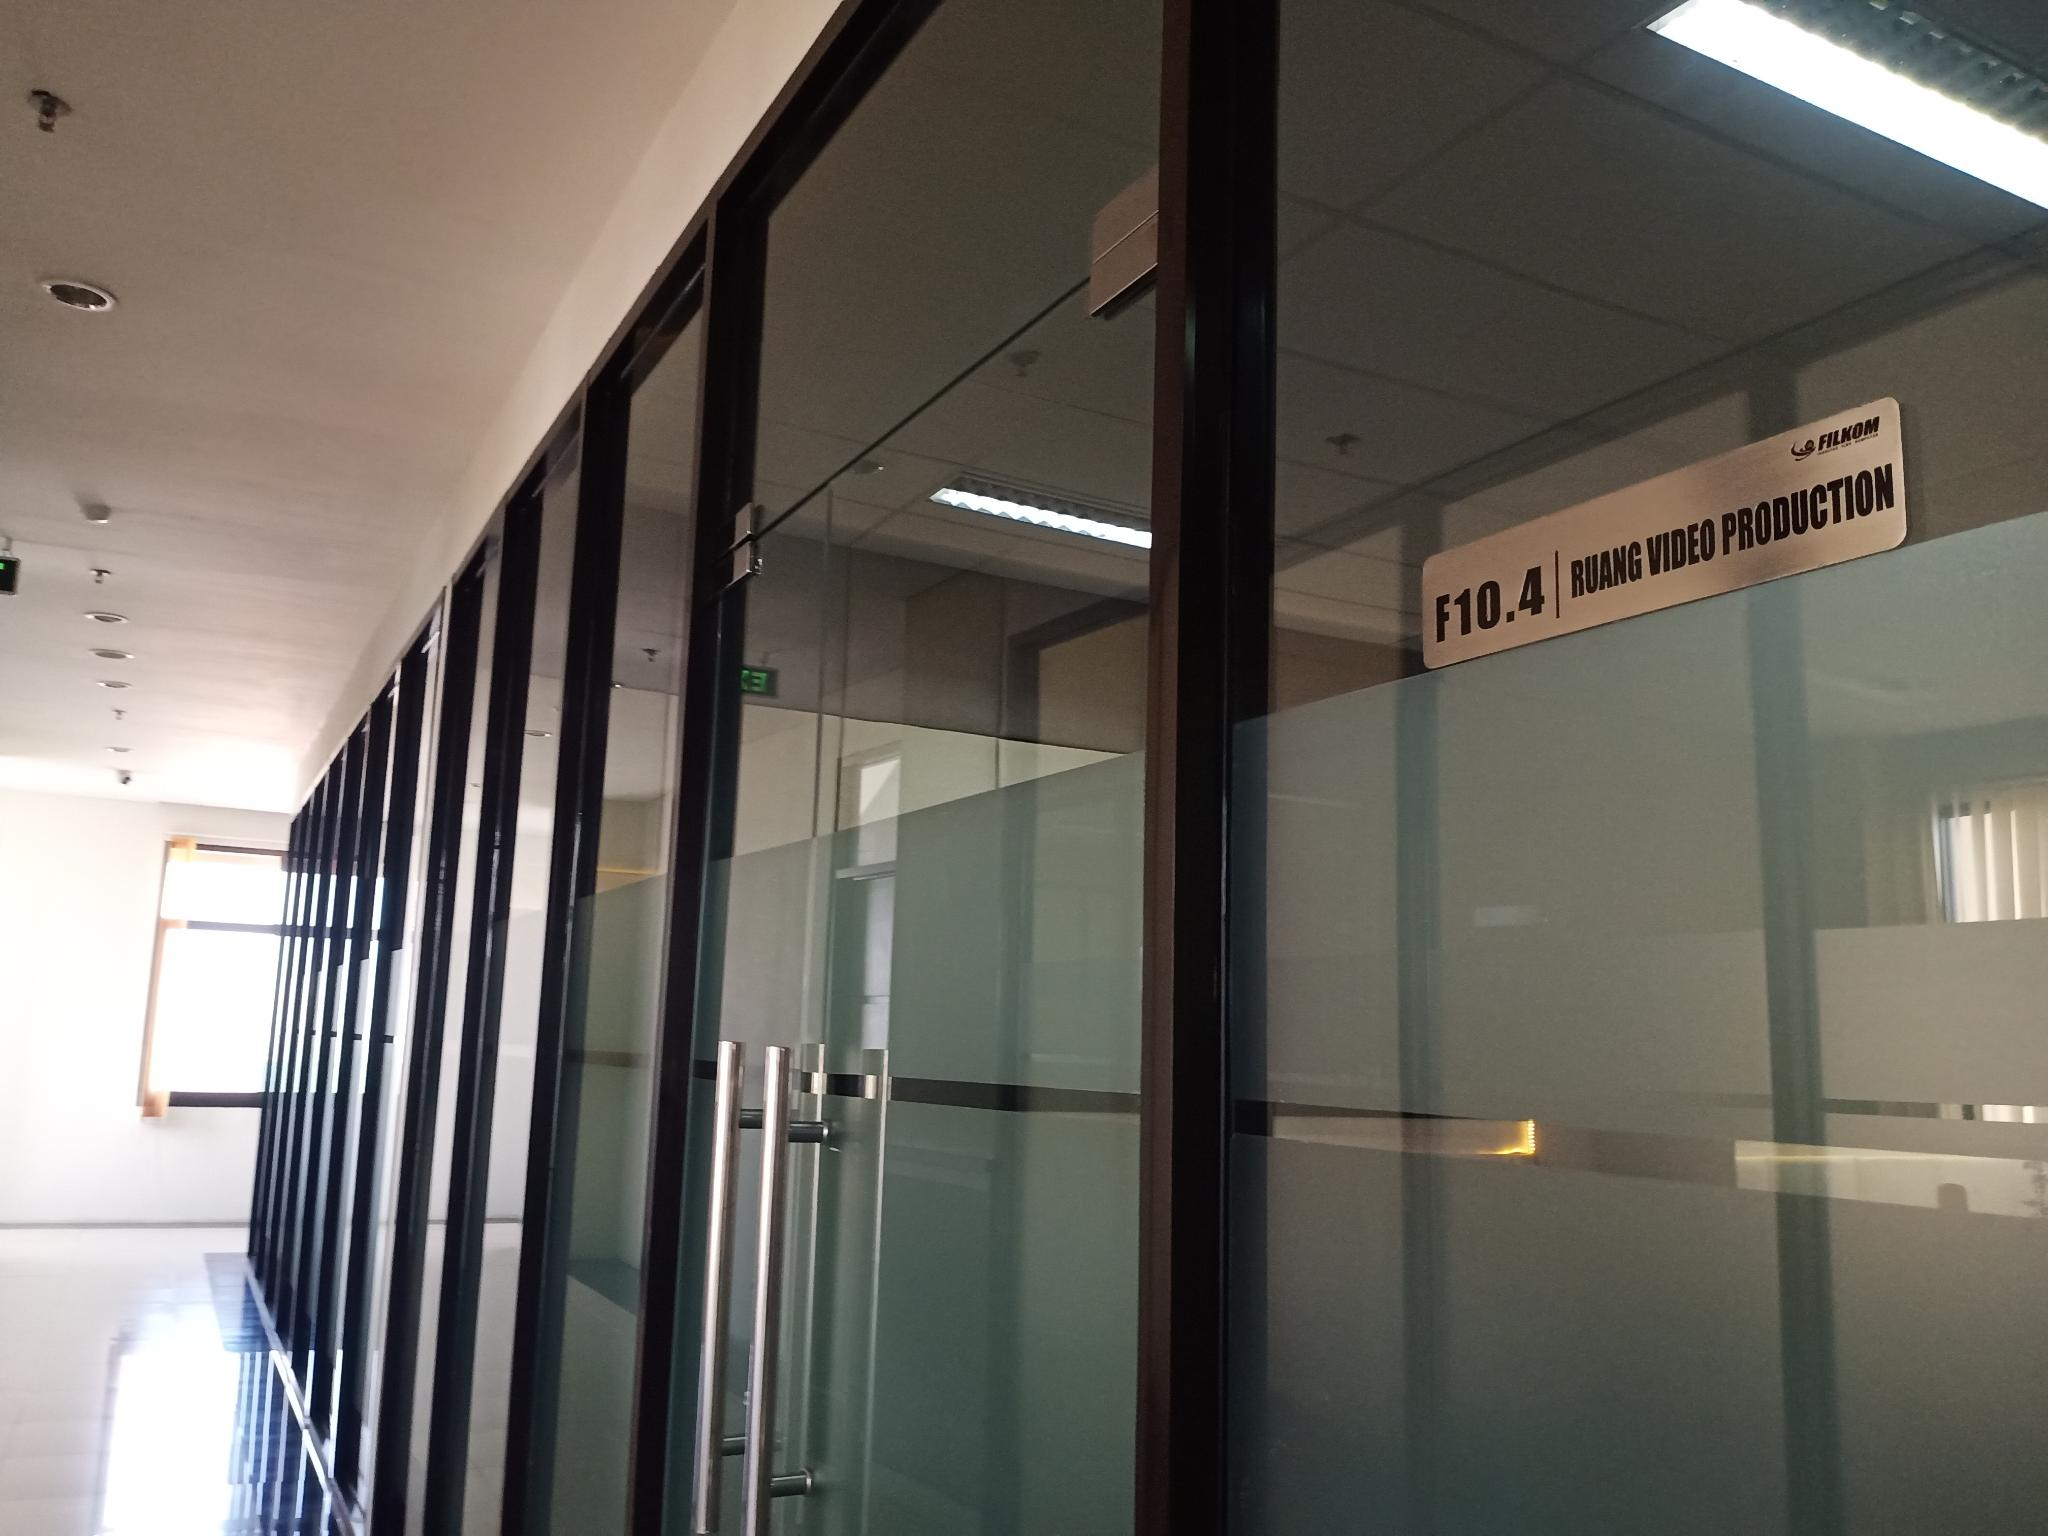plate: (1419, 390, 1911, 673)
